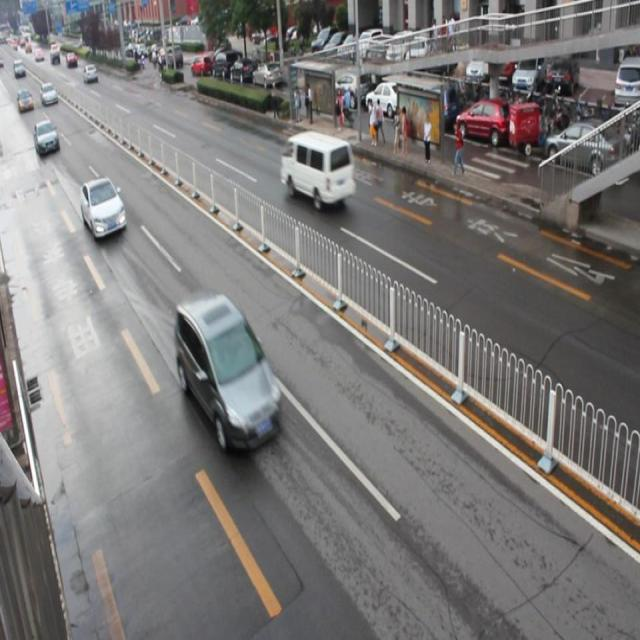car: (79, 175, 126, 238)
truck: (174, 290, 280, 450), (280, 130, 356, 202)
